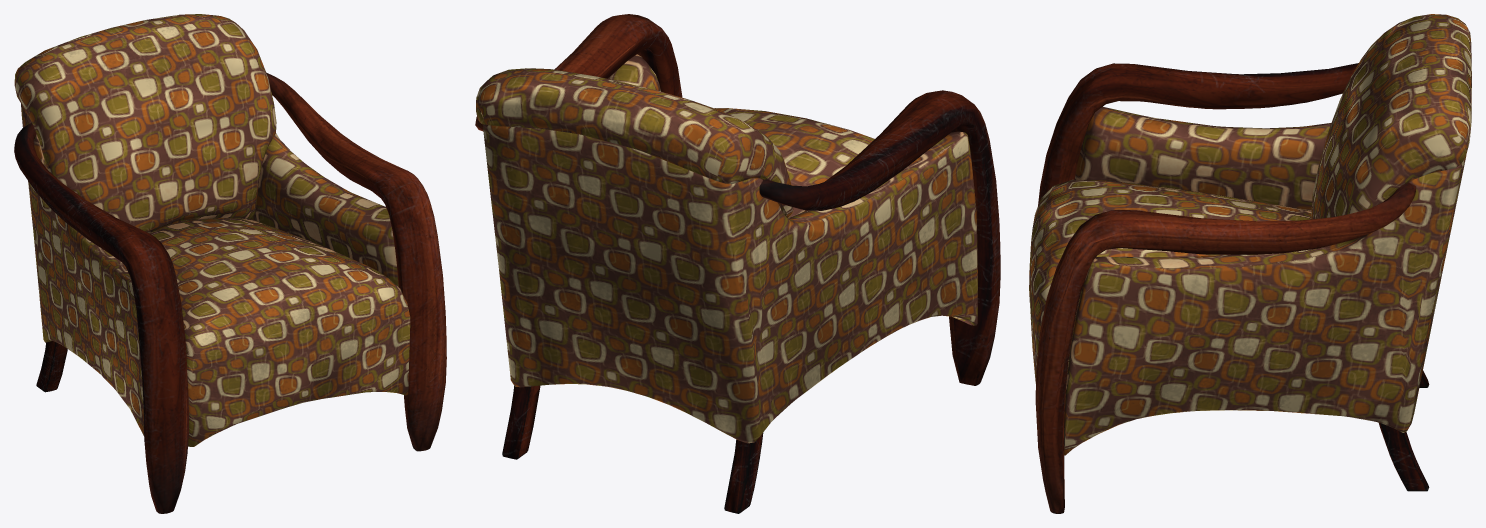
Rendered from armchair.glb.
The picture shows the model from 3 angles, left to right: view 1: azimuth 30°, elevation 25°; view 2: azimuth 150°, elevation 25°; view 3: azimuth 270°, elevation 25°; orthographic projection. The views are drawn at different scales.
Parts seen in each view (by area): view 1: Object_2; view 2: Object_2; view 3: Object_2.
Part boxes in pixels (x1,y1,x2,y2): Object_2: [14, 14, 446, 513]; Object_2: [475, 14, 1000, 513]; Object_2: [1029, 14, 1471, 513].
Bounding box in the file's own units: 0.734 × 0.7829 × 0.8201.
1 material, 1 textured.
